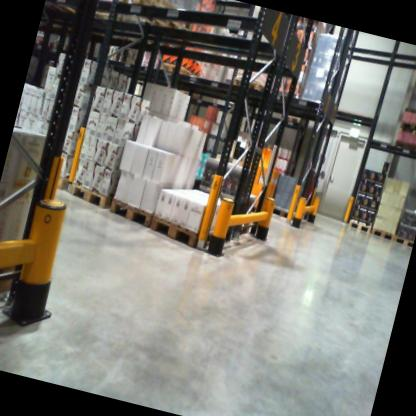pallet: (145, 213, 236, 261), (105, 0, 196, 39), (64, 178, 116, 218), (0, 256, 33, 316), (153, 56, 207, 90), (106, 193, 157, 228), (228, 74, 275, 109), (227, 213, 254, 243), (347, 212, 374, 235), (369, 225, 395, 242), (42, 36, 71, 51), (393, 232, 414, 249), (33, 34, 47, 53)
